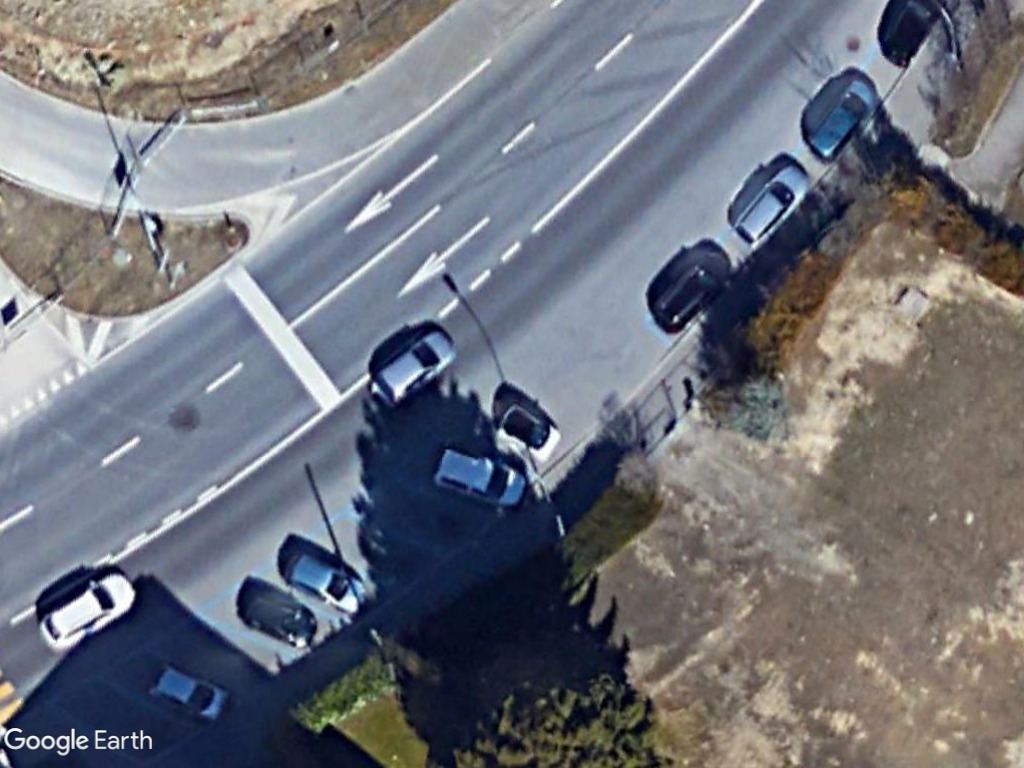car: (39, 572, 135, 653), (366, 329, 458, 407), (732, 164, 814, 248), (806, 77, 881, 162), (432, 446, 527, 509), (278, 553, 367, 615), (146, 668, 231, 720)
